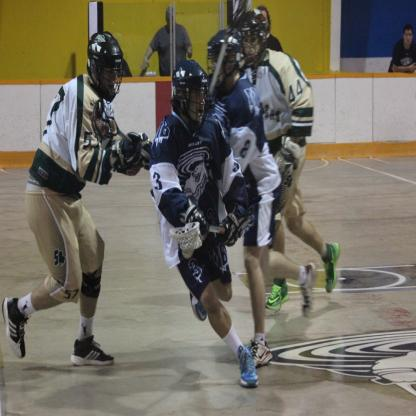Helmet: (172, 59, 212, 131), (80, 30, 122, 93), (206, 28, 242, 91), (240, 12, 267, 66)
